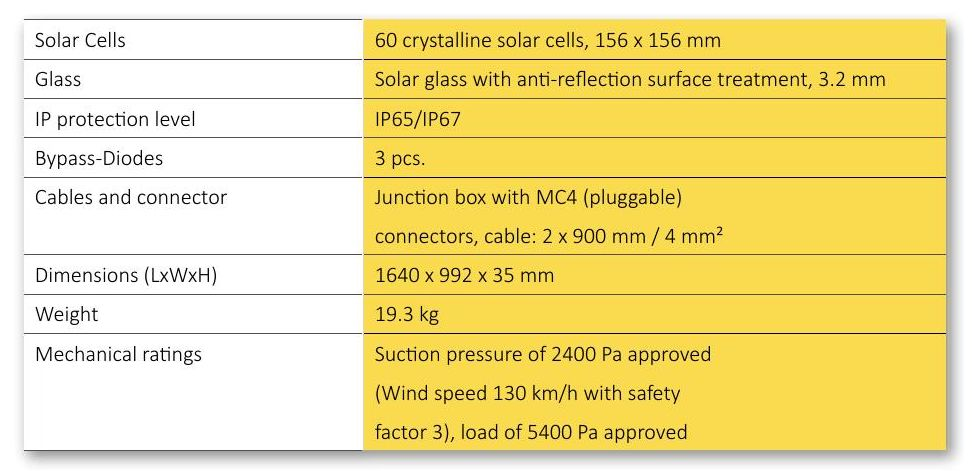table: (18, 10, 954, 458)
table column: (370, 9, 936, 451), (30, 12, 359, 449)
table row: (26, 338, 944, 447), (27, 181, 944, 251), (26, 258, 945, 292), (28, 22, 942, 56), (27, 298, 945, 331), (27, 141, 944, 173), (28, 102, 944, 134), (28, 63, 943, 95)
